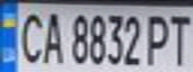2: (121, 10, 148, 67)
3: (106, 10, 127, 66)
8: (84, 10, 109, 65), (66, 9, 90, 65)
A: (36, 8, 69, 65)
C: (12, 8, 48, 65)
P: (145, 10, 175, 67)
T: (163, 10, 193, 67)
